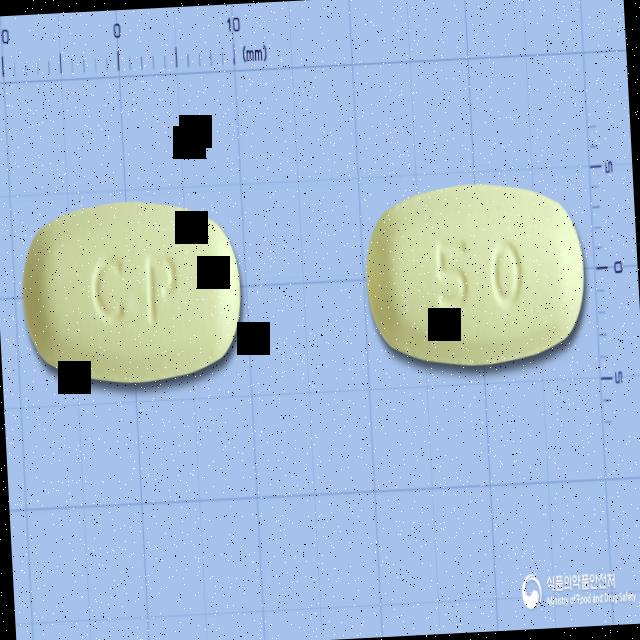Claroad: (362, 172, 594, 378), (18, 193, 248, 392)
